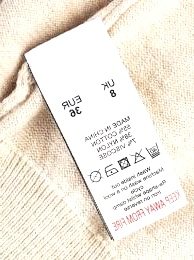DN_bleach: (132, 147, 145, 165)
DN_dry_clean: (86, 168, 103, 185)
DN_tumble_dry: (117, 155, 130, 172)
iron_low: (103, 162, 119, 178)
machine_wash: (145, 139, 161, 161)
